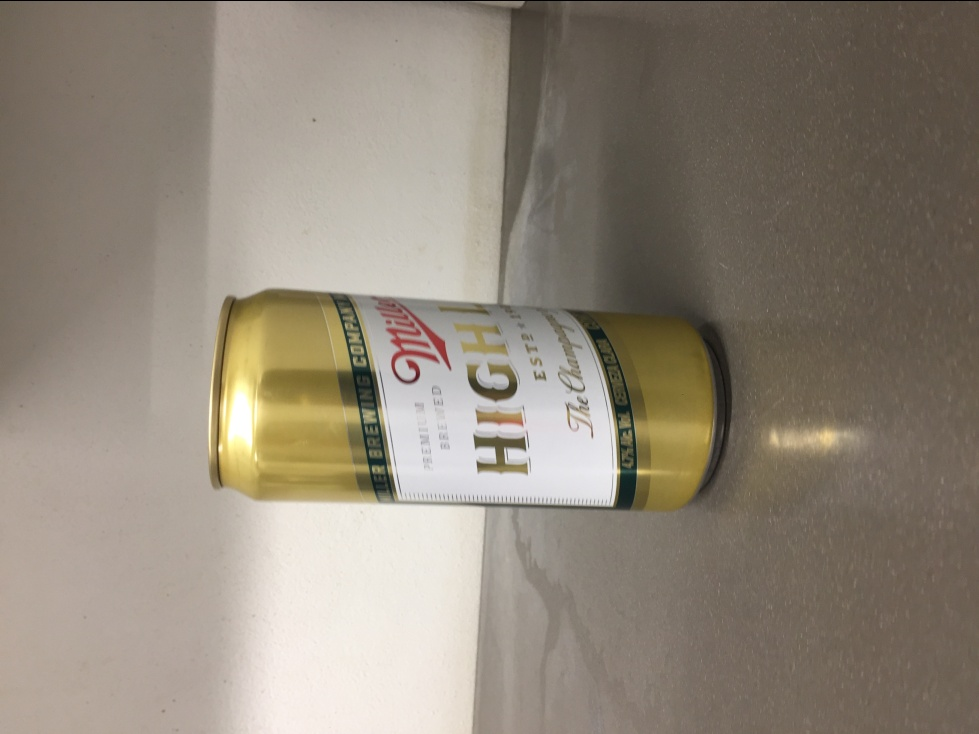miller: (207, 284, 732, 516)
